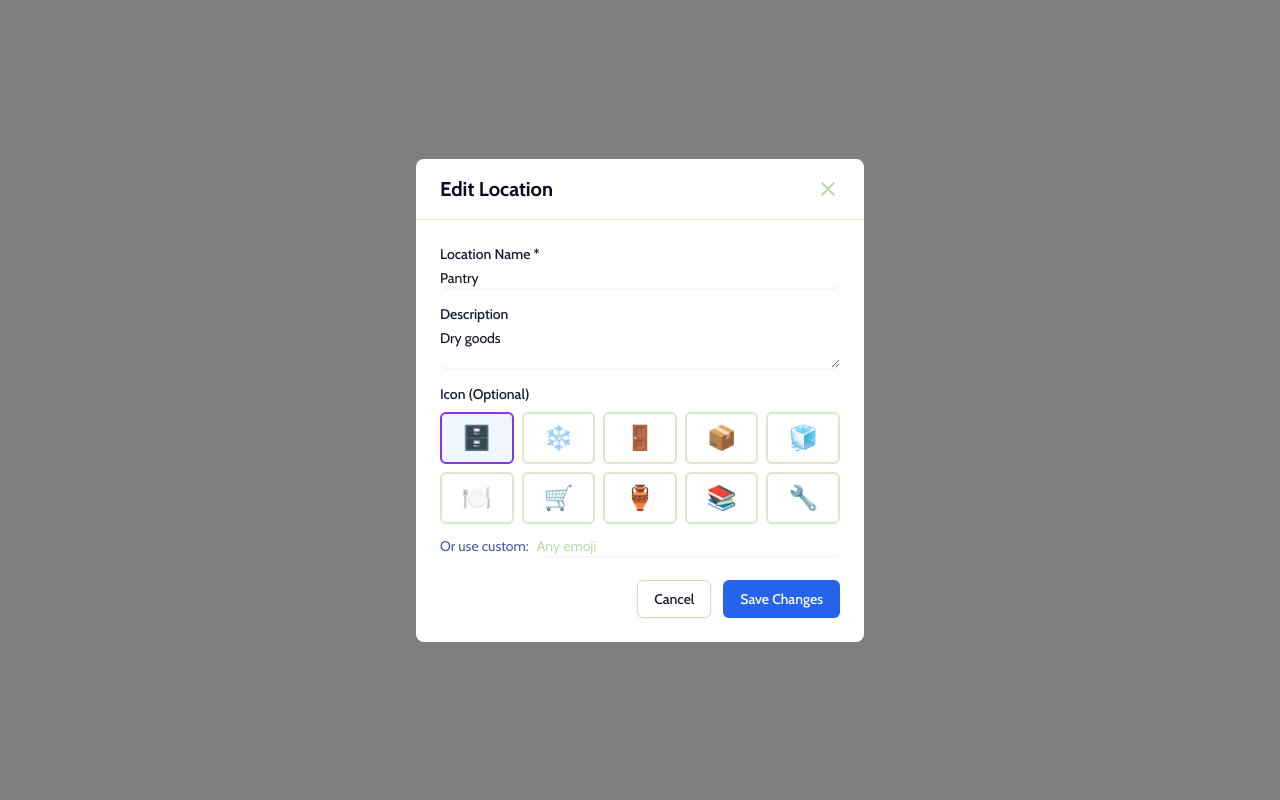
EditLocationModal › surfaces an update error (structured + fallback message)
Click the button "Save Changes".
click(782, 598)  # box [723,580,840,618]
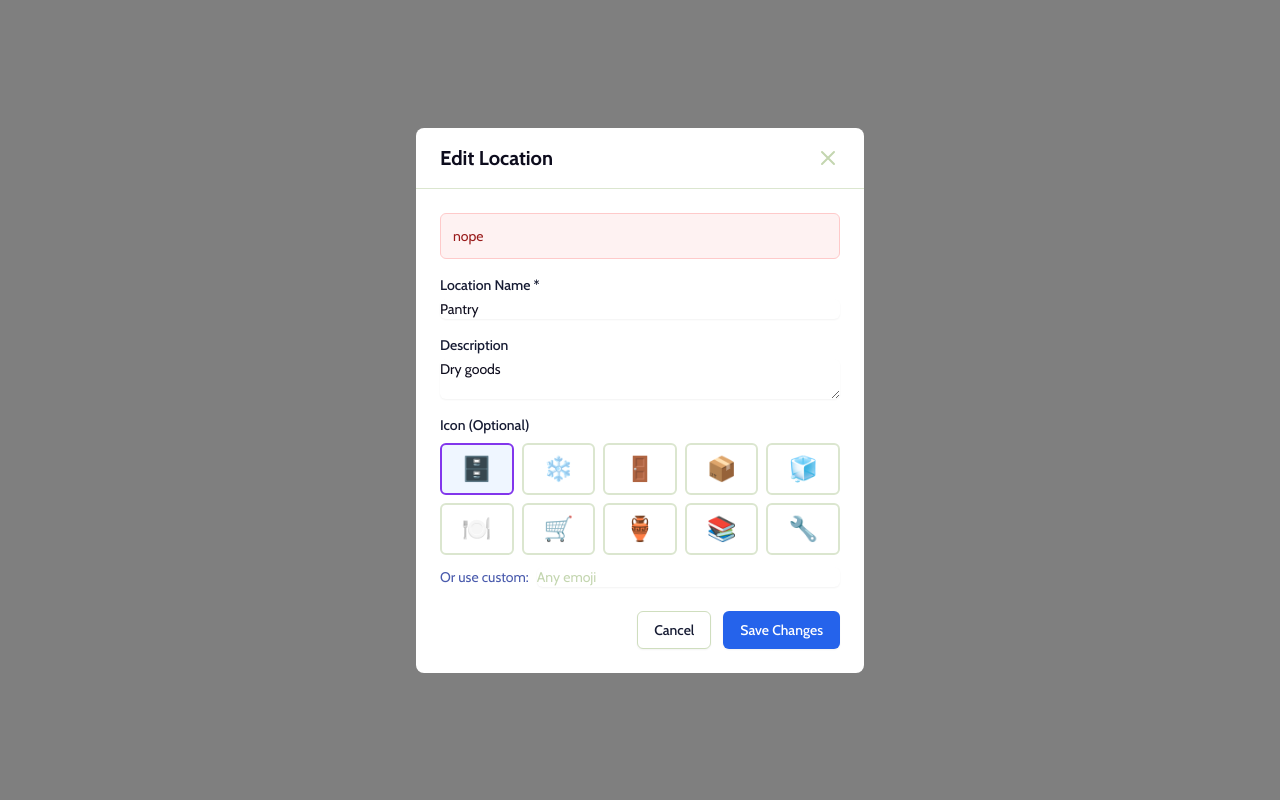
Now the text "nope" is shown, box [453,226,484,244]
Click the button "Save Changes".
click(782, 630)  # box [723,610,840,648]
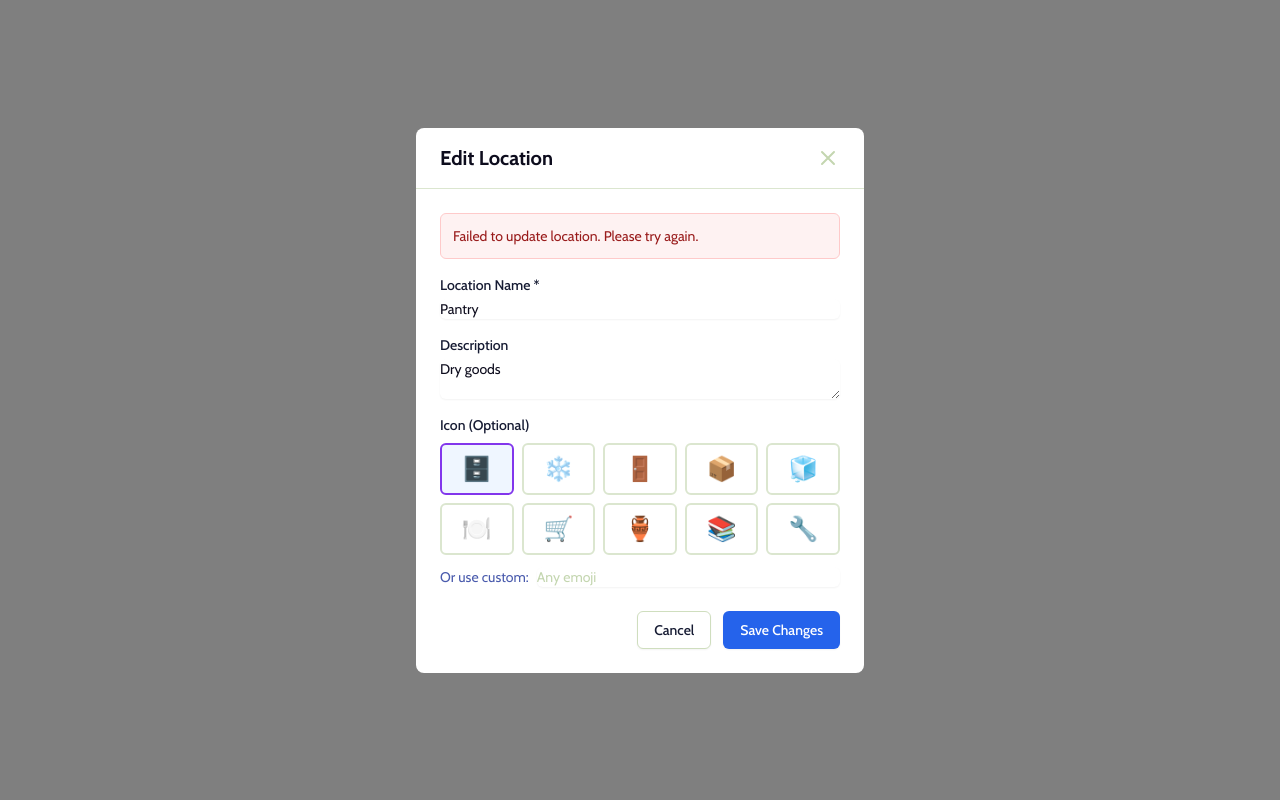
Now the text "Failed to update location. Please try again." is shown, box [453,226,698,244]
